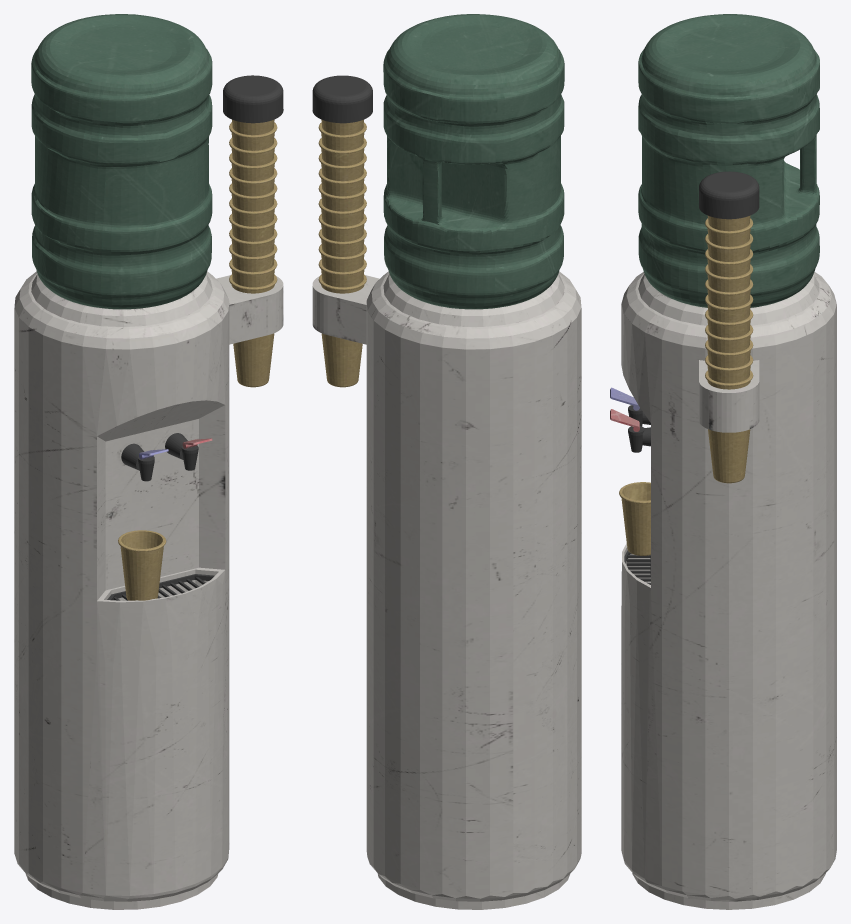
Rendered from dispenser.fbx.
3 views of the same model, side by side, from view 1: azimuth 30°, elevation 25°; view 2: azimuth 150°, elevation 25°; view 3: azimuth 270°, elevation 25° (orthographic).
Visible parts, largest first — view 1: Water Dispenser; view 2: Water Dispenser; view 3: Water Dispenser.
Part boxes in pixels (x1,y1,x2,y2): Water Dispenser: [14, 14, 283, 909]; Water Dispenser: [312, 14, 581, 909]; Water Dispenser: [610, 14, 836, 909].
Bounding box in the file's own units: 1693 × 5313 × 1326.
